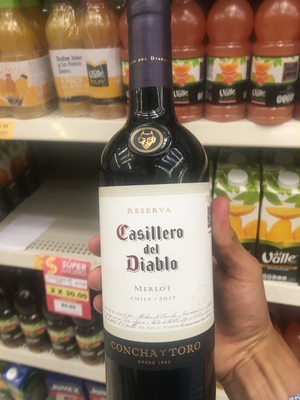casillero del diablo merlot: (95, 22, 232, 400)
